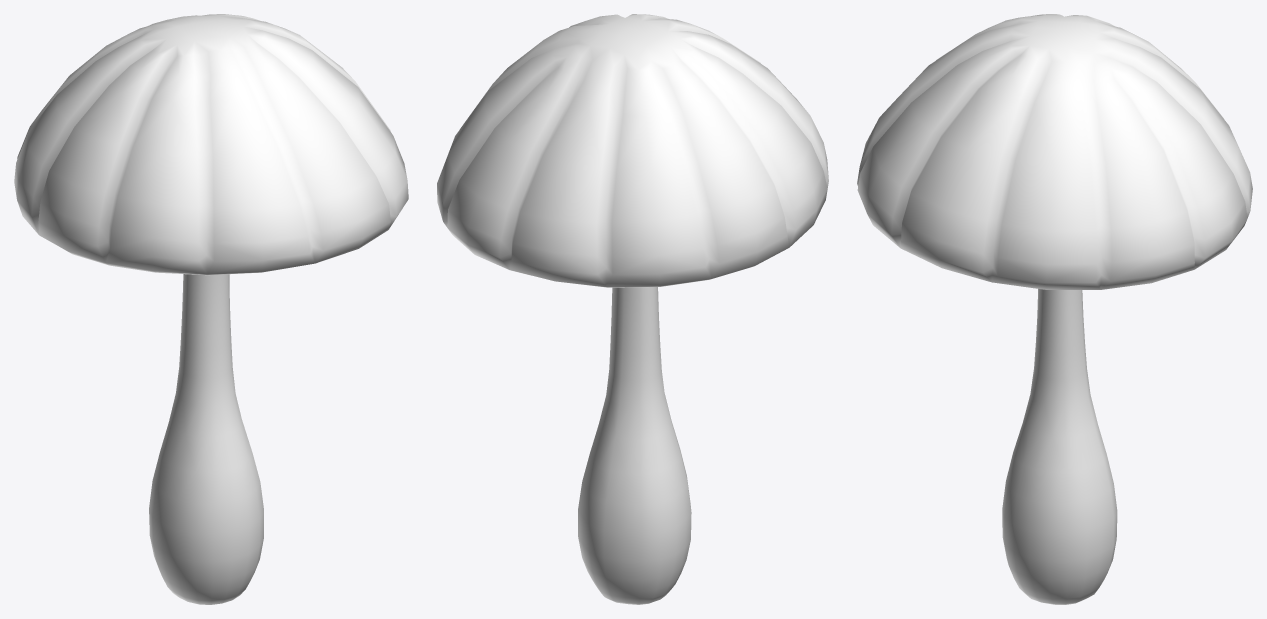
File: Mushroom_0001_0012.fbx
3 views of the same model, side by side, from view 1: azimuth 30°, elevation 25°; view 2: azimuth 150°, elevation 25°; view 3: azimuth 270°, elevation 25° (orthographic).
Parts seen in each view (by area): view 1: Mushroom_0001_0012; view 2: Mushroom_0001_0012; view 3: Mushroom_0001_0012.
Boxes of the visible parts, left/top/right/bottom form: Mushroom_0001_0012: left=14, top=14, right=408, bottom=604; Mushroom_0001_0012: left=437, top=14, right=828, bottom=604; Mushroom_0001_0012: left=857, top=14, right=1252, bottom=604.
Bounding box in the file's own units: 0.1612 × 0.2588 × 0.1652.
Materials: 1 (1 with a texture image).
